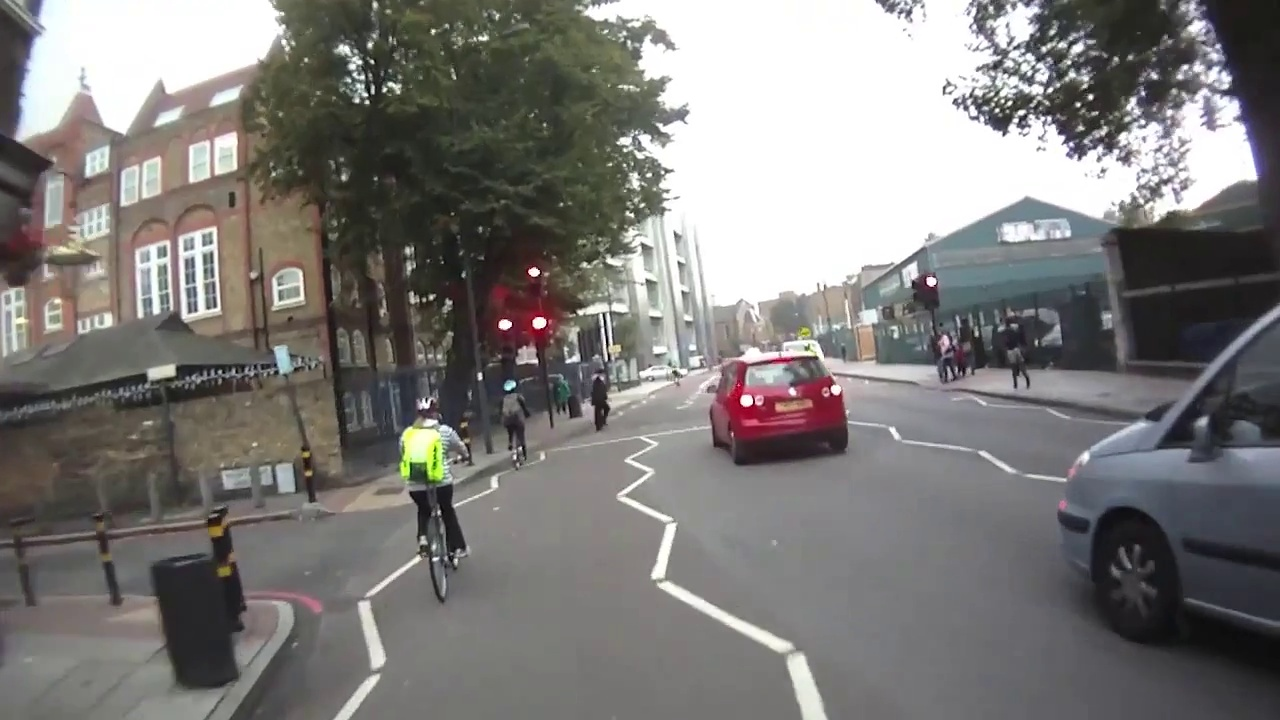cyclist_back: (394, 392, 476, 611), (499, 378, 531, 471)
